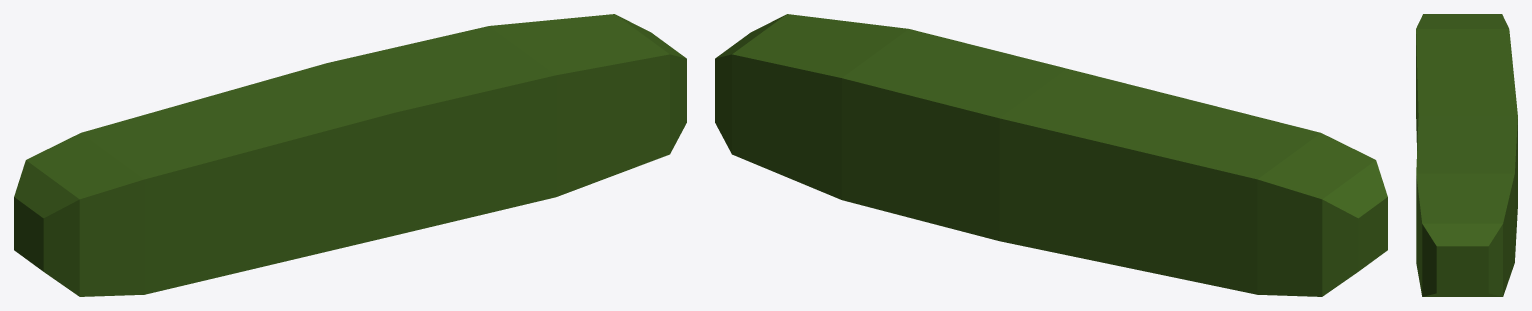
The model's file is food_ingredient_cucumber.fbx.
The picture shows the model from 3 angles, left to right: view 1: azimuth 30°, elevation 25°; view 2: azimuth 150°, elevation 25°; view 3: azimuth 270°, elevation 25°; orthographic projection. The views are drawn at different scales.
Visible parts, largest first — view 1: cucumber; view 2: cucumber; view 3: cucumber.
Boxes of the visible parts, <box> form: cucumber: <box>14,14,686,296</box>; cucumber: <box>715,14,1387,296</box>; cucumber: <box>1416,14,1517,296</box>.
Bounding box in the file's own units: 32.59 × 5.98 × 6.13.
